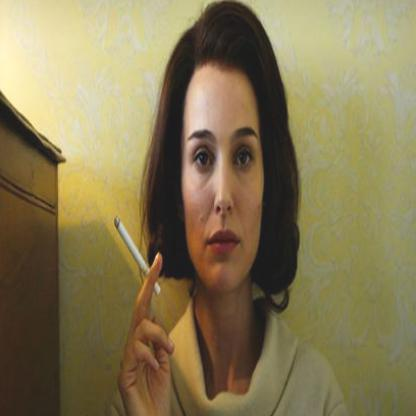cigarette: (114, 216, 160, 298)
person: (134, 15, 324, 415)
